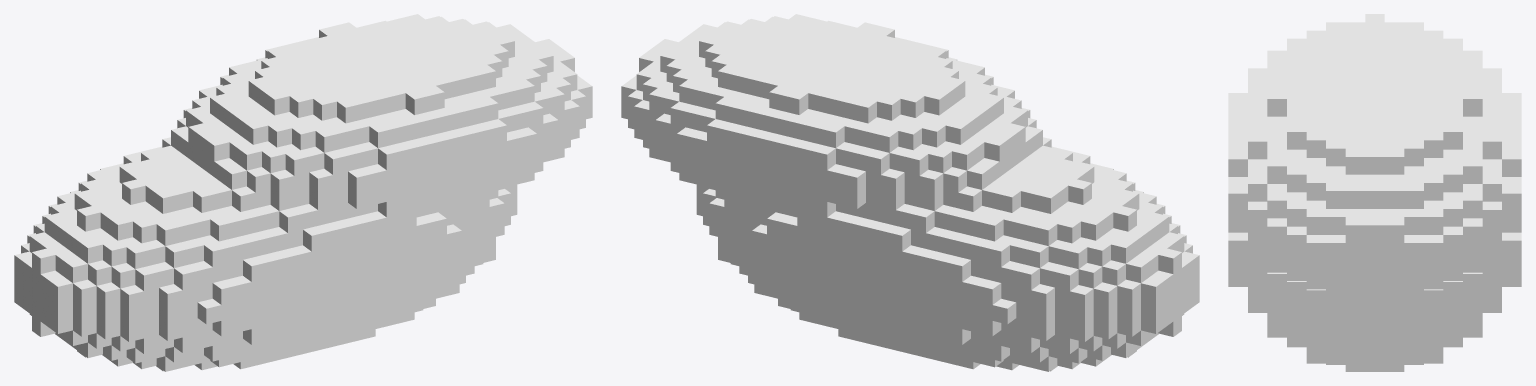
Rendered from Cloud2.fbx.
3 views of the same model, side by side, from view 1: azimuth 30°, elevation 25°; view 2: azimuth 150°, elevation 25°; view 3: azimuth 270°, elevation 25° (orthographic). The views are drawn at different scales.
Visible parts, largest first — view 1: Sphere; view 2: Sphere; view 3: Sphere.
Part boxes in pixels (box(x1,y1,x2,y2)): Sphere: box(14, 14, 592, 371); Sphere: box(621, 14, 1199, 371); Sphere: box(1228, 14, 1521, 371).
Size of the model in its own units: 35 by 15 by 15.
Materials: 1 (1 with a texture image).
